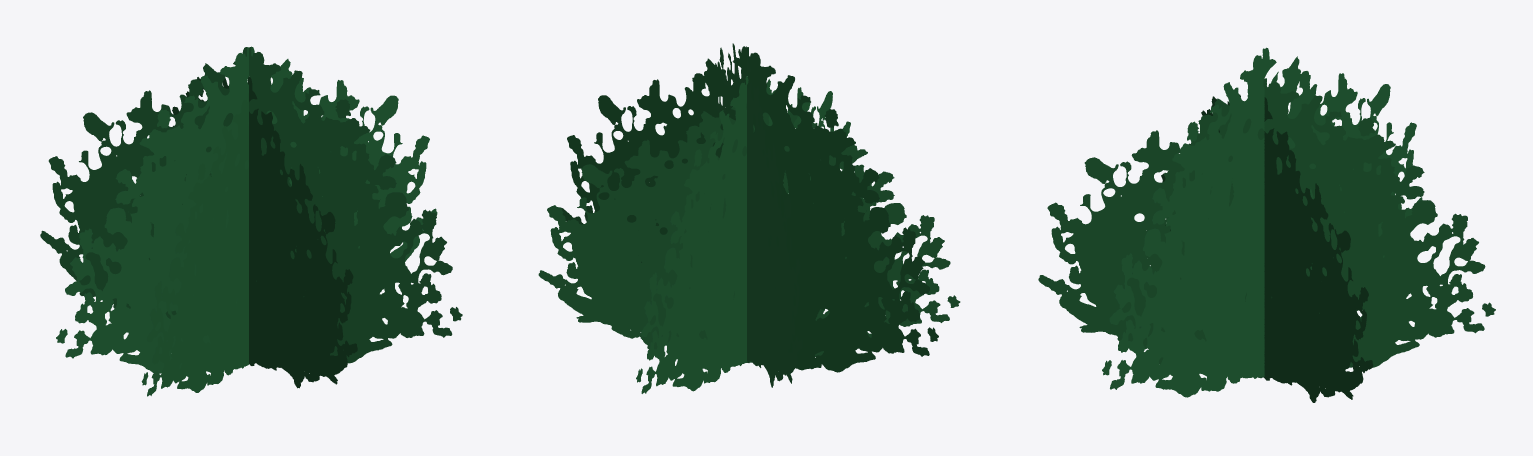
The model's file is SM_Bush_01.fbx.
3 renders of one model, left to right at view 1: azimuth 30°, elevation 25°; view 2: azimuth 150°, elevation 25°; view 3: azimuth 270°, elevation 25°, orthographic. The views are drawn at different scales.
Visible parts, largest first — view 1: SM_Bush_01; view 2: SM_Bush_01; view 3: SM_Bush_01.
Boxes of the visible parts, x1,y1,x2,y2 form: SM_Bush_01: [40, 46, 462, 396]; SM_Bush_01: [538, 43, 960, 393]; SM_Bush_01: [1038, 47, 1495, 402].
Bounding box in the file's own units: 152 × 125 × 152.
